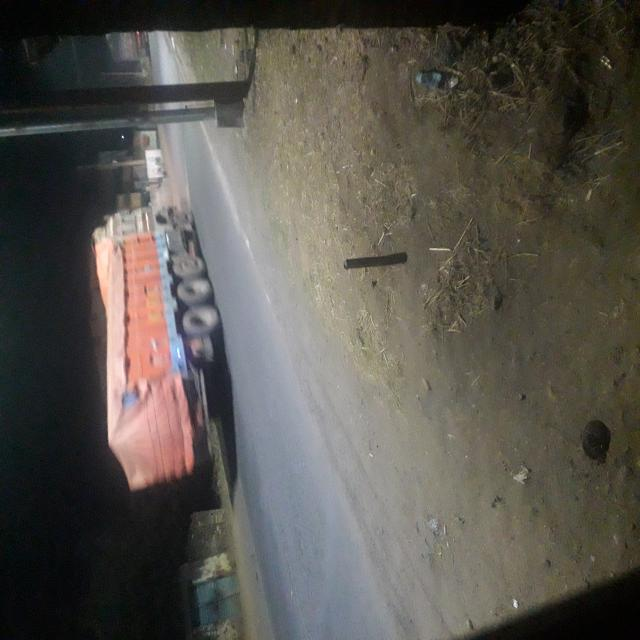Truck: (106, 121, 332, 292)
